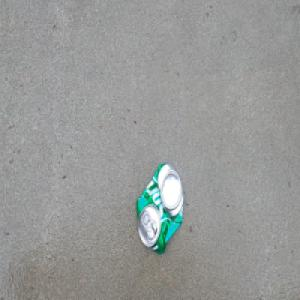SodaCan: (134, 159, 185, 257)
